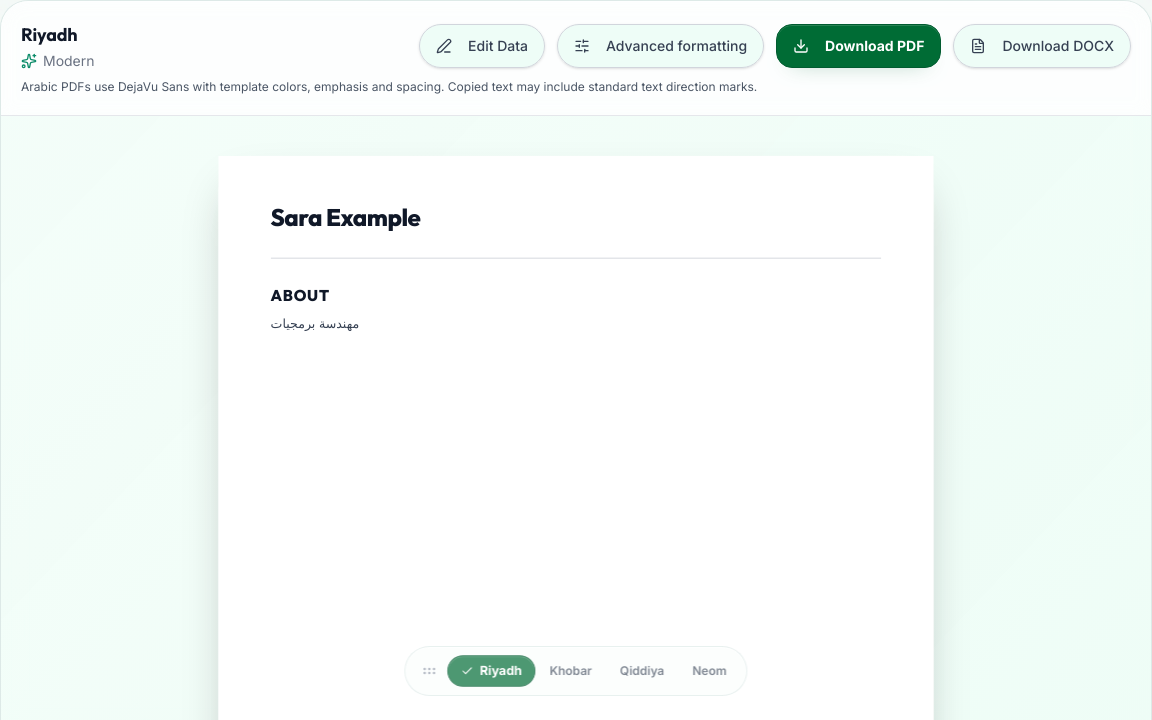
signed-out PDF downloads › downloads the reviewed Text PDF without consulting session state
The image size is (1152, 720).
Click the button "Download PDF" at x=859, y=46, box [776, 24, 941, 68]
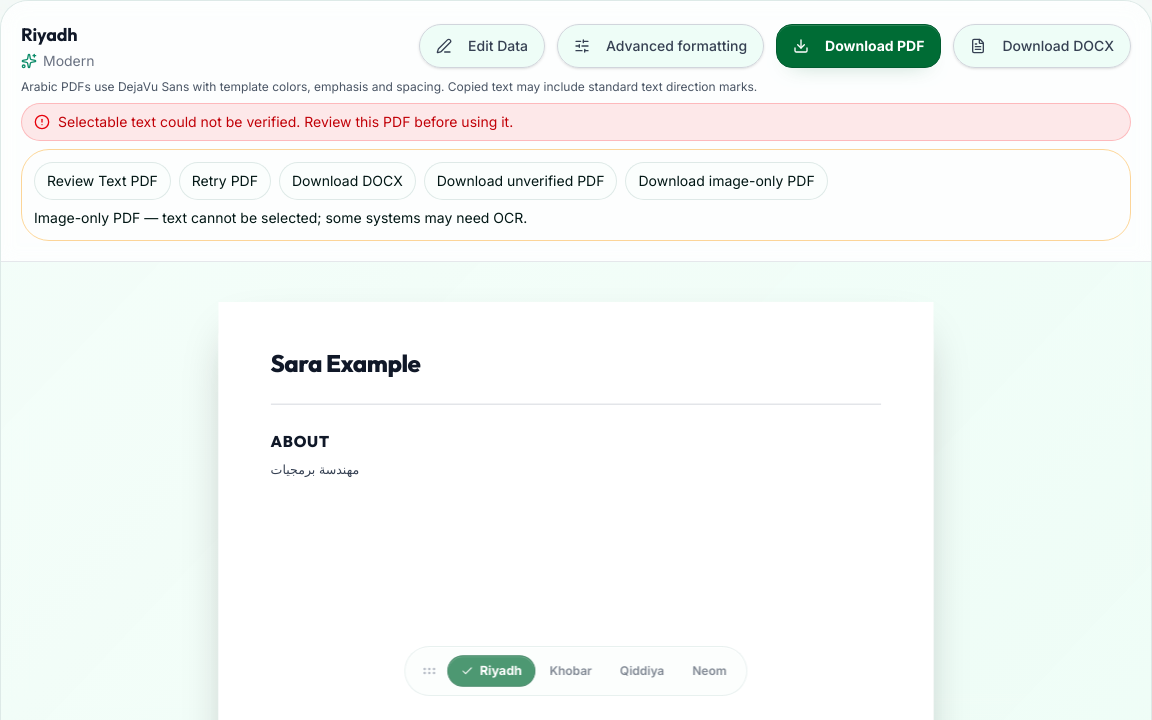
Click the button "Review Text PDF" at x=102, y=181, box [34, 162, 171, 200]
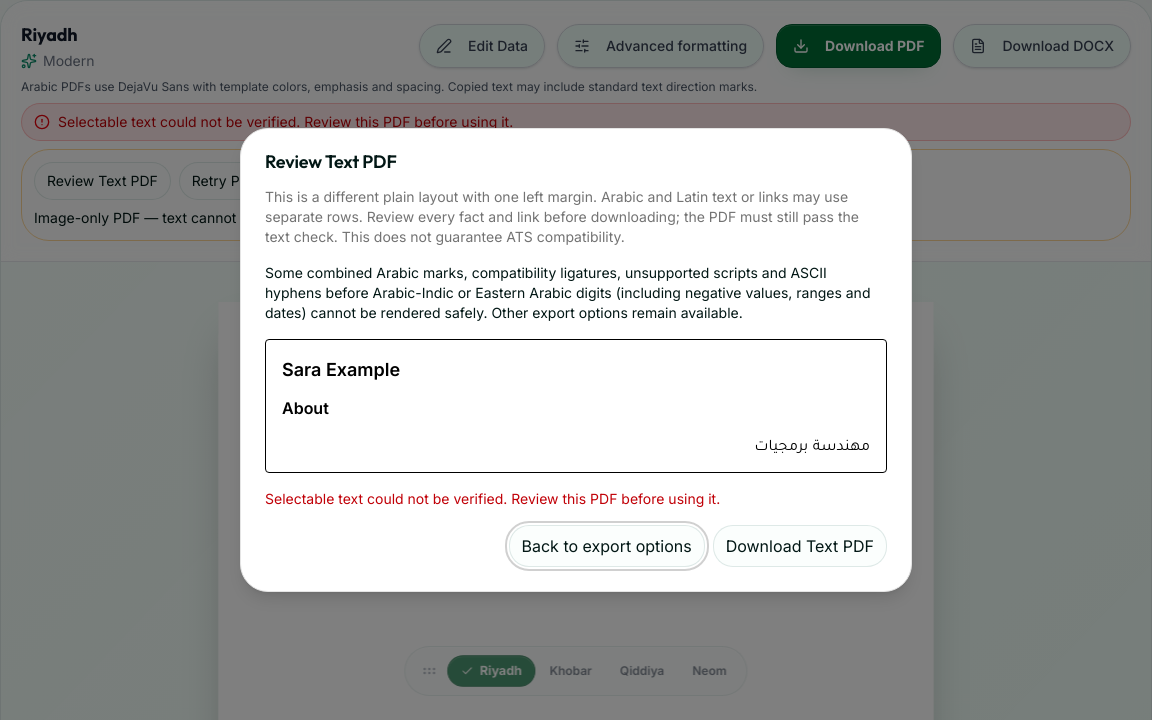
Click the button "Download Text PDF" at x=800, y=546, box [713, 525, 887, 567]
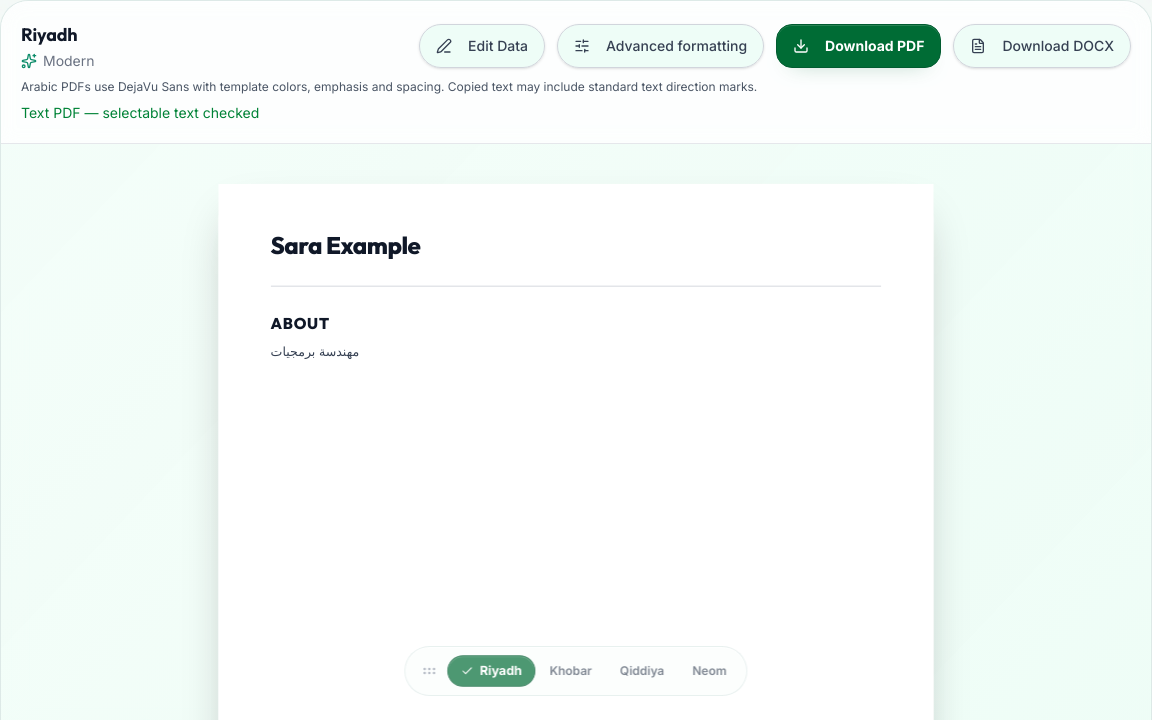
Expected: the button "Review Text PDF" is gone
